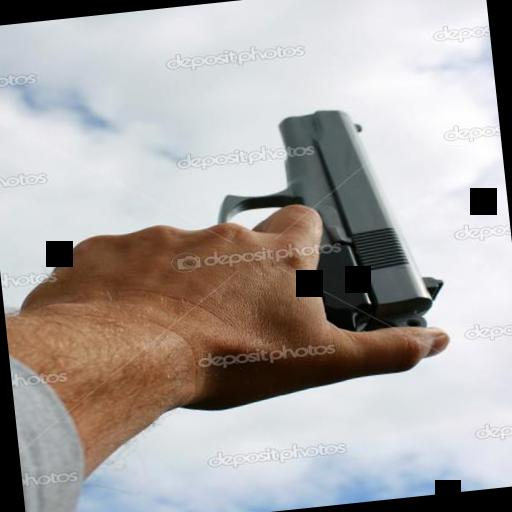Handgun: (48, 100, 450, 392)
